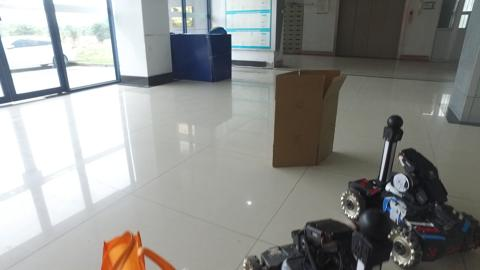box: (274, 63, 341, 168)
chariot: (341, 114, 477, 268)
